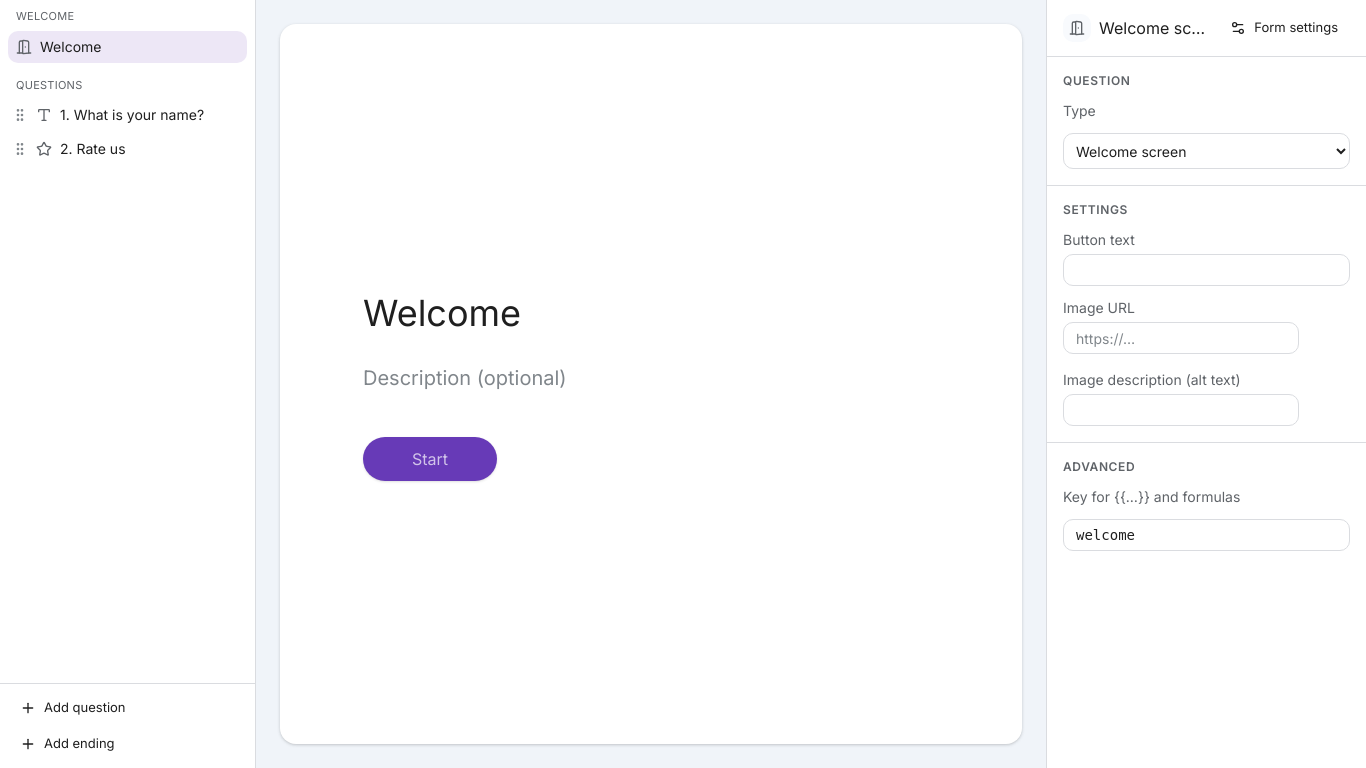
Test: ContentTab › shows the newly selected question in the centre and its type label on the right
Click the button "2. Rate us": (128, 149) [36,133,219,165]
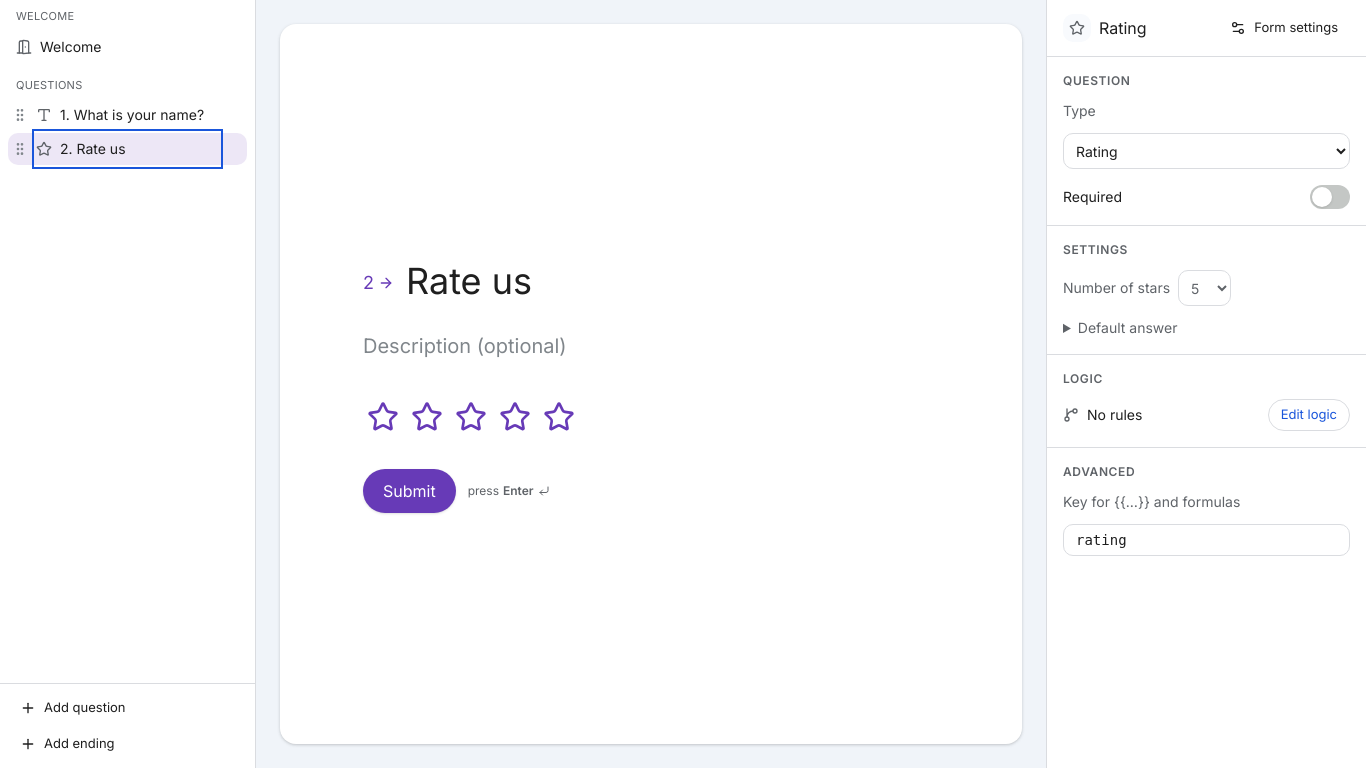
Expected: the dropdown named "Question text" holds "Rate us", [398,255,931,308]
Expected: the heading "Rating" is shown, [1099,18,1147,38]
